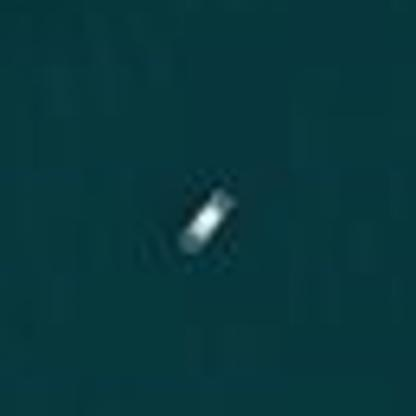ship: (169, 177, 245, 260)
